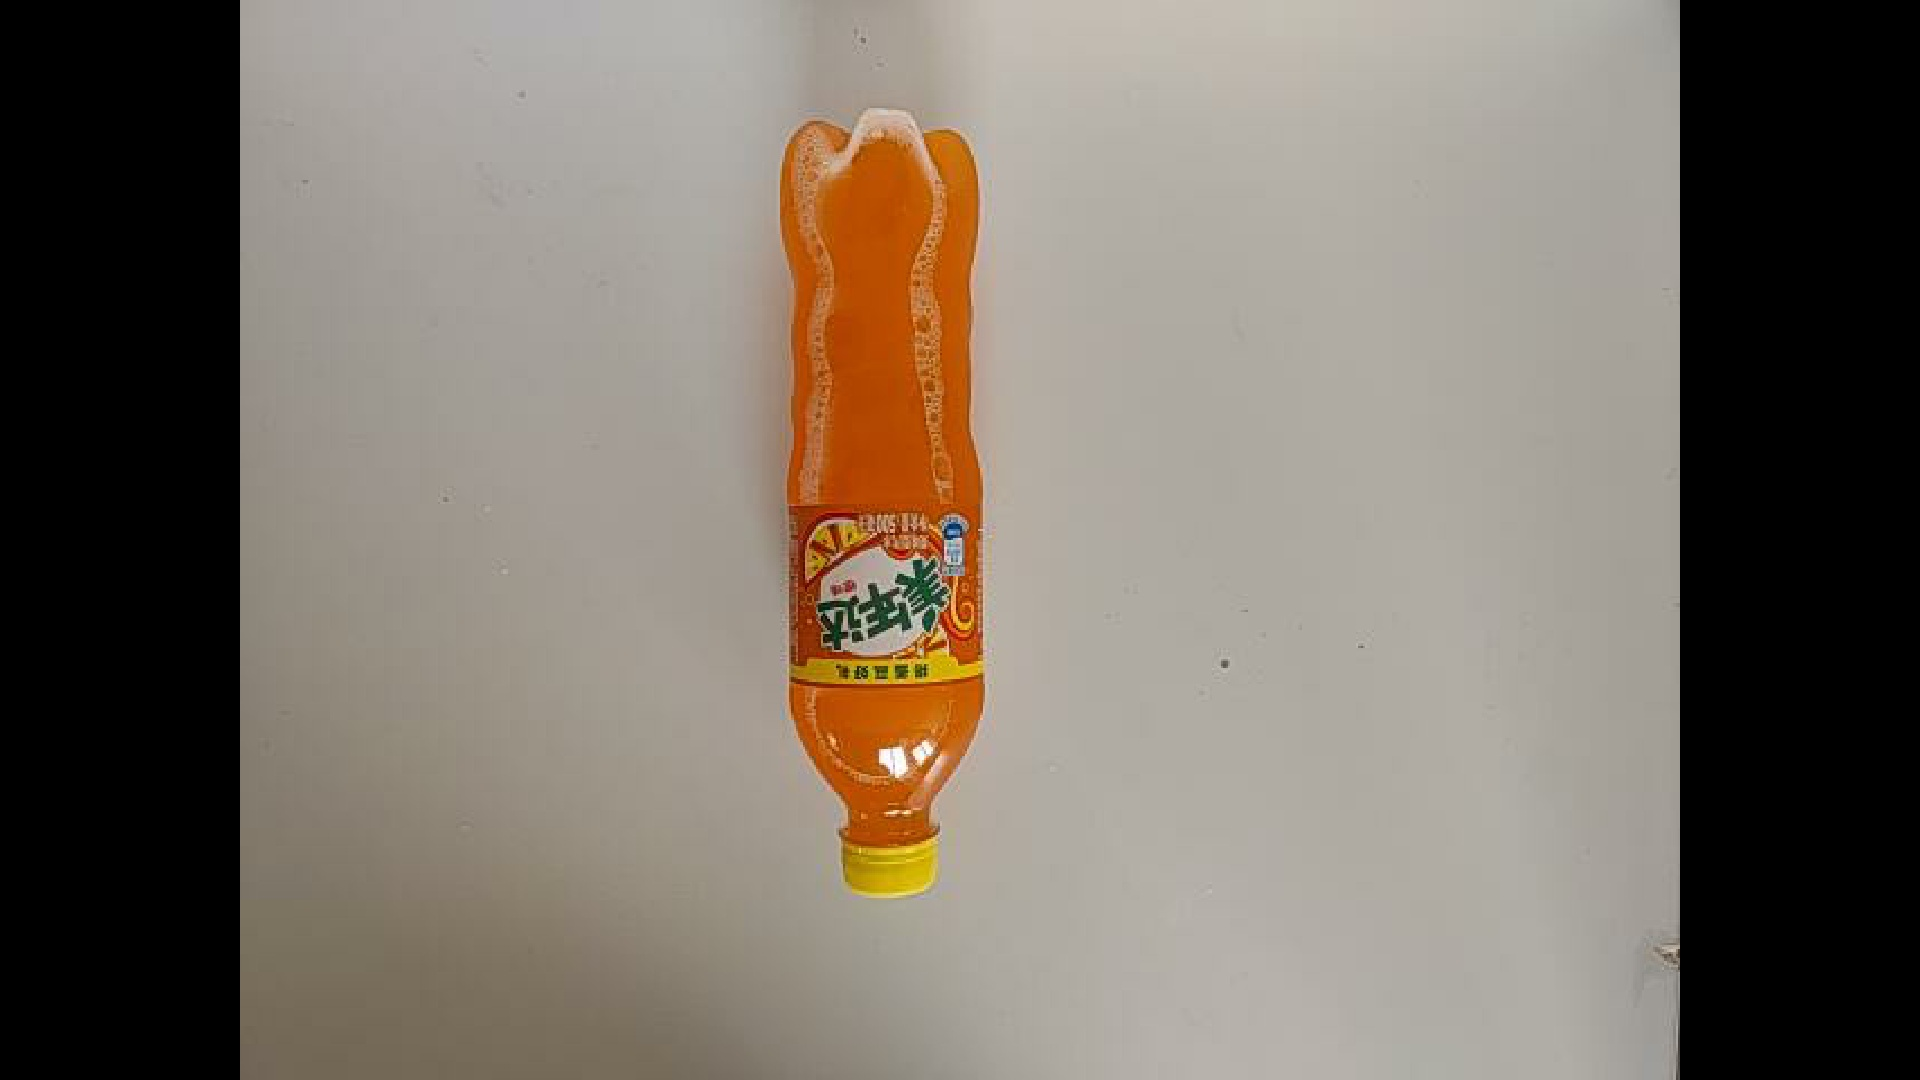fenta: (777, 105, 988, 899)
